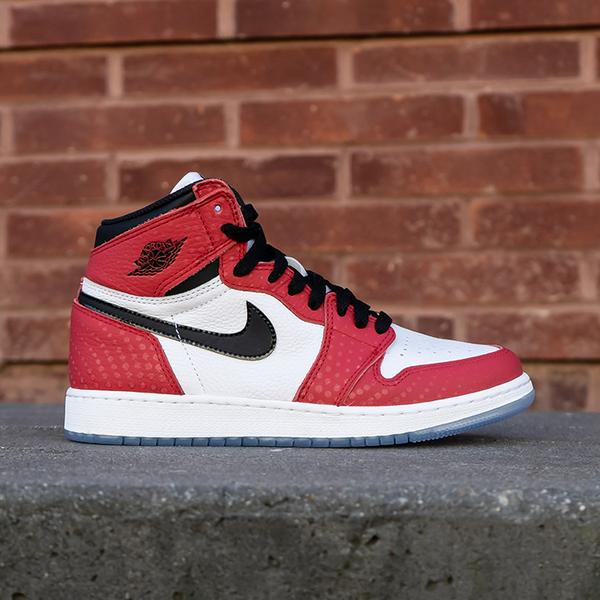Air Jordan 1 Spiderman: (52, 137, 549, 454)
